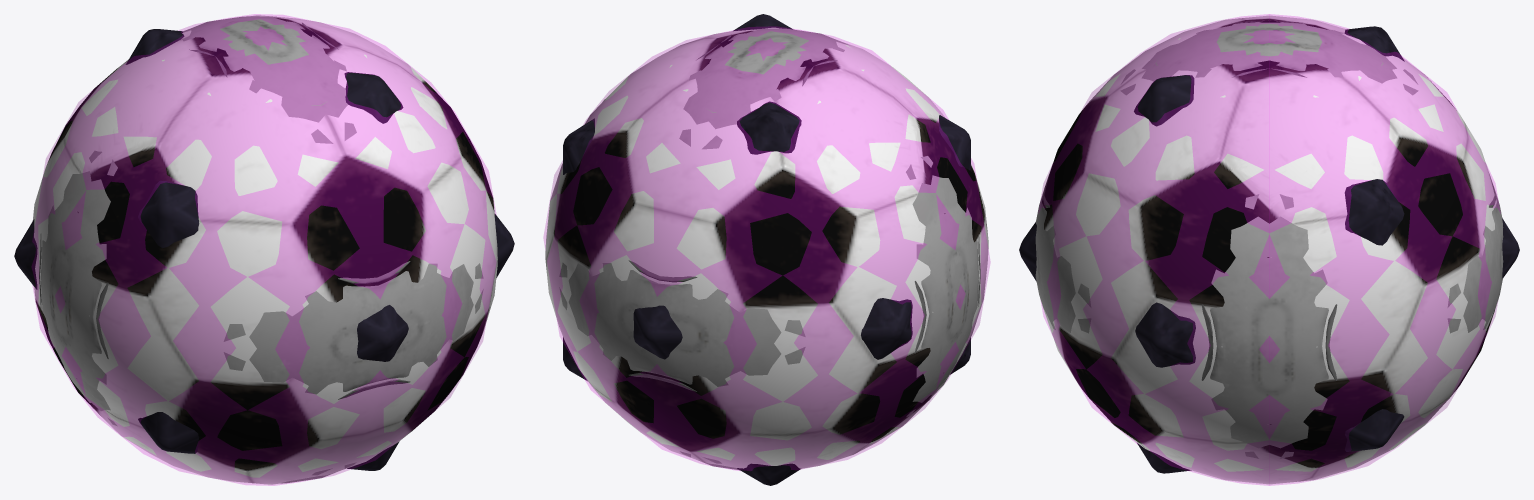
File: ball.glb
3 renders of one model, left to right at view 1: azimuth 30°, elevation 25°; view 2: azimuth 150°, elevation 25°; view 3: azimuth 270°, elevation 25°, orthographic. The views are drawn at different scales.
Parts seen in each view (by area): view 1: SM_Ball_001_Classic, CoP_Ball, SM_Ball_003_Luke Guard, SM_Ball_006_NerdLair; view 2: SM_Ball_001_Classic, CoP_Ball, SM_Ball_003_Luke Guard, SM_Ball_006_NerdLair; view 3: SM_Ball_001_Classic, CoP_Ball, SM_Ball_003_Luke Guard, SM_Ball_006_NerdLair.
Part boxes in pixels (left/top/right/bottom): SM_Ball_001_Classic: left=32, top=15, right=497, bottom=484; CoP_Ball: left=32, top=14, right=496, bottom=485; SM_Ball_003_Luke Guard: left=39, top=16, right=483, bottom=483; SM_Ball_006_NerdLair: left=14, top=29, right=514, bottom=470; SM_Ball_001_Classic: left=545, top=27, right=988, bottom=468; CoP_Ball: left=543, top=26, right=990, bottom=470; SM_Ball_003_Luke Guard: left=559, top=28, right=980, bottom=470; SM_Ball_006_NerdLair: left=563, top=14, right=970, bottom=485; SM_Ball_001_Classic: left=1042, top=15, right=1496, bottom=484; CoP_Ball: left=1038, top=14, right=1500, bottom=485; SM_Ball_003_Luke Guard: left=1035, top=20, right=1503, bottom=458; SM_Ball_006_NerdLair: left=1019, top=26, right=1519, bottom=473.
Size of the model in its own units: 0.023 by 0.023 by 0.0242.
Materials: 7 (6 with a texture image).
